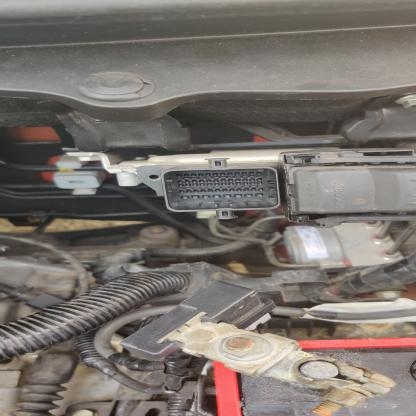Connector: (139, 160, 295, 219)
